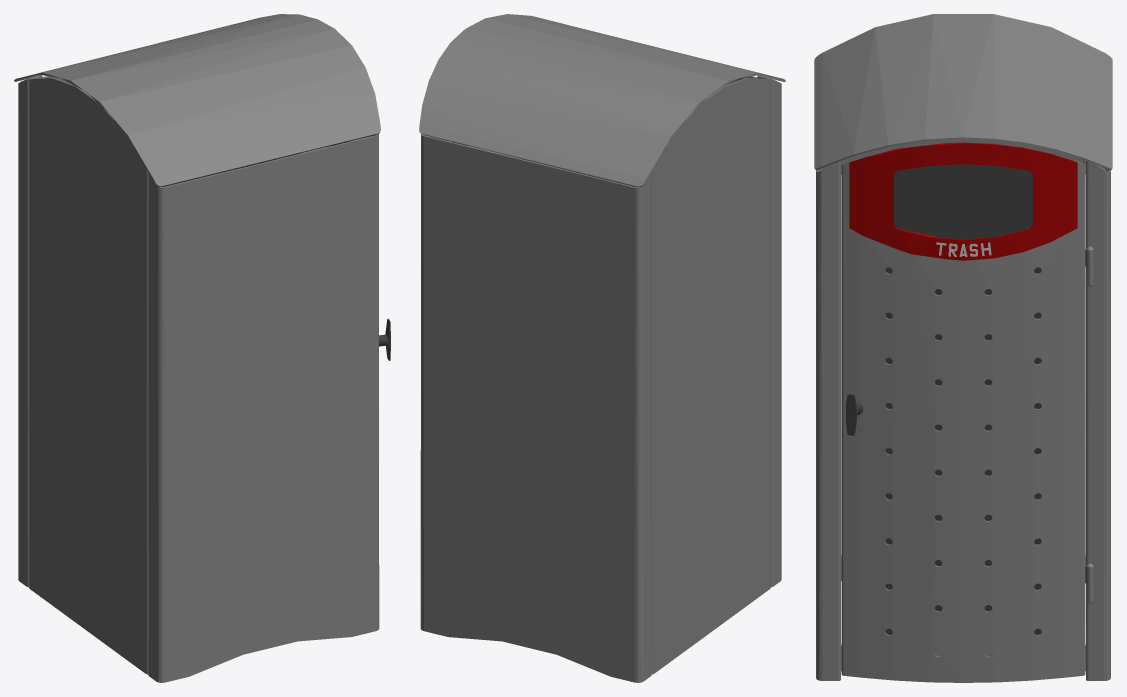
3 renders of one model, left to right at view 1: azimuth 30°, elevation 25°; view 2: azimuth 150°, elevation 25°; view 3: azimuth 270°, elevation 25°, orthographic. The views are drawn at different scales.
Visible parts, largest first — view 1: mesh13.002_mesh13-geometry, mesh17.002_mesh17-geometry, mesh170.002_mesh170-geometry, mesh61.002_mesh61-geometry; view 2: mesh61.002_mesh61-geometry, mesh17.002_mesh17-geometry, mesh170.002_mesh170-geometry, mesh13.002_mesh13-geometry; view 3: mesh91.002_mesh91-geometry, mesh170.002_mesh170-geometry, mesh166.002_mesh166-geometry, mesh13.002_mesh13-geometry, mesh61.002_mesh61-geometry, mesh19.002_mesh19-geometry, mesh169.002_mesh169-geometry, mesh17.002_mesh17-geometry, mesh24.002_mesh24-geometry.
Boxes of the visible parts, x1,y1,x2,y2 form: mesh13.002_mesh13-geometry: (148,134,379,682); mesh17.002_mesh17-geometry: (29,78,148,674); mesh170.002_mesh170-geometry: (14,14,380,187); mesh61.002_mesh61-geometry: (18,75,87,587); mesh61.002_mesh61-geometry: (420,134,651,682); mesh17.002_mesh17-geometry: (651,78,770,674); mesh170.002_mesh170-geometry: (419,14,785,187); mesh13.002_mesh13-geometry: (712,75,781,587); mesh91.002_mesh91-geometry: (841,160,1085,682); mesh170.002_mesh170-geometry: (814,14,1112,170); mesh166.002_mesh166-geometry: (849,142,1077,260); mesh13.002_mesh13-geometry: (816,161,840,680); mesh61.002_mesh61-geometry: (1086,160,1110,680); mesh19.002_mesh19-geometry: (885,164,1041,634); mesh169.002_mesh169-geometry: (841,139,1085,174); mesh17.002_mesh17-geometry: (841,143,1085,553); mesh24.002_mesh24-geometry: (846,394,863,435).
Bounding box in the file's own units: 0.399 × 0.8247 × 0.4008.
